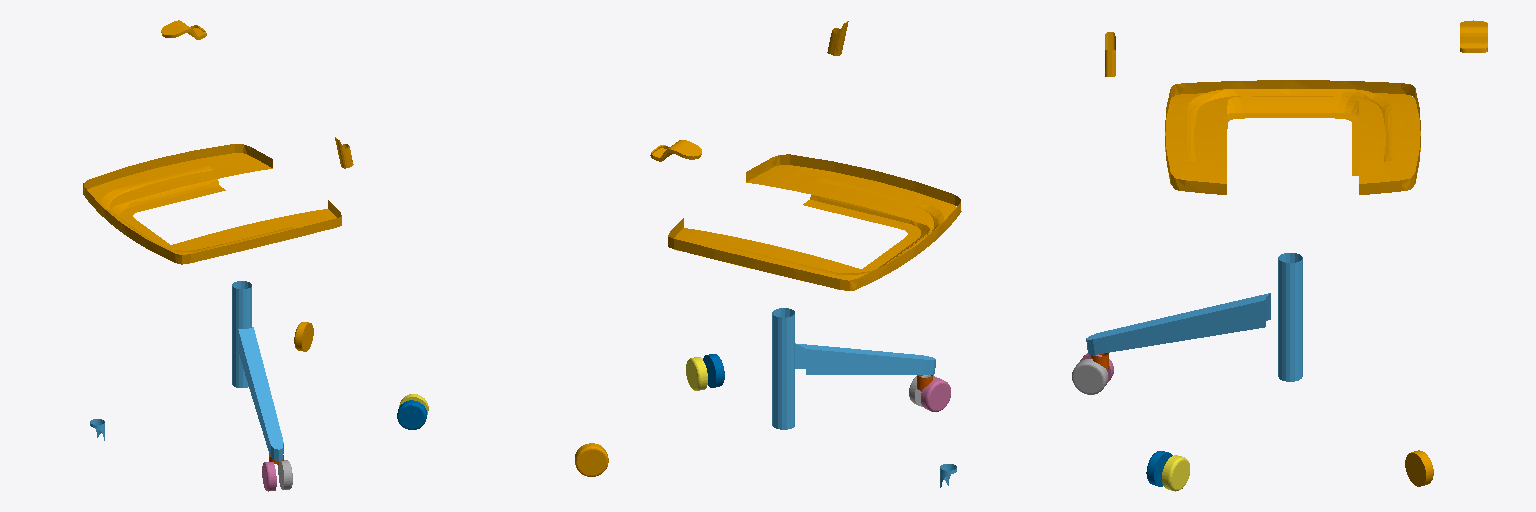
The robot description file, URDF, robot "partnet_6f36520144753550f91663a74ccd2338":
<?xml version="1.0" ?>
<robot name="partnet_6f36520144753550f91663a74ccd2338">
	<link name="base"/>
	<link name="link_0">
		<visual name="caster_stem-88">
			<origin xyz="-0.004824560353282527 0.6854306951624354 -0.6261094488673553"/>
			<geometry>
				<mesh filename="textured_objs/original-1.obj"/>
			</geometry>
		</visual>
		<collision>
			<origin xyz="-0.004824560353282527 0.6854306951624354 -0.6261094488673553"/>
			<geometry>
				<mesh filename="textured_objs/original-1.obj"/>
			</geometry>
		</collision>
	</link>
	<joint name="joint_0" type="continuous">
		<origin xyz="0.004824560353282527 -0.6854306951624354 0.6261094488673553"/>
		<axis xyz="0 1 0"/>
		<child link="link_0"/>
		<parent link="link_16"/>
	</joint>
	<link name="link_1">
		<visual name="wheel-89">
			<origin xyz="0 0.787426 -0.6367505"/>
			<geometry>
				<mesh filename="textured_objs/original-13.obj"/>
			</geometry>
		</visual>
		<collision>
			<origin xyz="0 0.787426 -0.6367505"/>
			<geometry>
				<mesh filename="textured_objs/original-13.obj"/>
			</geometry>
		</collision>
	</link>
	<joint name="joint_1" type="continuous">
		<origin xyz="-0.004824560353282527 -0.10199530483756458 0.010641051132644685"/>
		<axis xyz="1 0 0"/>
		<child link="link_1"/>
		<parent link="link_0"/>
	</joint>
	<link name="link_2">
		<visual name="wheel-90">
			<origin xyz="0 0.787426 -0.6367505"/>
			<geometry>
				<mesh filename="textured_objs/original-22.obj"/>
			</geometry>
		</visual>
		<collision>
			<origin xyz="0 0.787426 -0.6367505"/>
			<geometry>
				<mesh filename="textured_objs/original-22.obj"/>
			</geometry>
		</collision>
	</link>
	<joint name="joint_2" type="continuous">
		<origin xyz="-0.004824560353282527 -0.10199530483756458 0.010641051132644685"/>
		<axis xyz="1 0 0"/>
		<child link="link_2"/>
		<parent link="link_0"/>
	</joint>
	<link name="link_3">
		<visual name="caster_stem-85">
			<origin xyz="0.4752625738710319 0.6813977063051926 -0.2731863872516069"/>
			<geometry>
				<mesh filename="textured_objs/original-3.obj"/>
			</geometry>
		</visual>
		<collision>
			<origin xyz="0.4752625738710319 0.6813977063051926 -0.2731863872516069"/>
			<geometry>
				<mesh filename="textured_objs/original-3.obj"/>
			</geometry>
		</collision>
	</link>
	<joint name="joint_3" type="continuous">
		<origin xyz="-0.4752625738710319 -0.6813977063051926 0.2731863872516069"/>
		<axis xyz="0 1 0"/>
		<child link="link_3"/>
		<parent link="link_16"/>
	</joint>
	<link name="link_4">
		<visual name="wheel-86">
			<origin xyz="0.5200274031646904 0.7874214223528662 -0.17040334689669234"/>
			<geometry>
				<mesh filename="textured_objs/original-23.obj"/>
			</geometry>
		</visual>
		<collision>
			<origin xyz="0.5200274031646904 0.7874214223528662 -0.17040334689669234"/>
			<geometry>
				<mesh filename="textured_objs/original-23.obj"/>
			</geometry>
		</collision>
	</link>
	<joint name="joint_4" type="continuous">
		<origin xyz="-0.04476482929365855 -0.10602371604767358 -0.10278304035491453"/>
		<axis xyz="-0.31143727124422005 3.465755326456095e-05 -0.9502667124964487"/>
		<child link="link_4"/>
		<parent link="link_3"/>
	</joint>
	<link name="link_5">
		<visual name="wheel-87">
			<origin xyz="0.5200274031646904 0.7874214223528662 -0.17040334689669234"/>
			<geometry>
				<mesh filename="textured_objs/original-18.obj"/>
			</geometry>
		</visual>
		<collision>
			<origin xyz="0.5200274031646904 0.7874214223528662 -0.17040334689669234"/>
			<geometry>
				<mesh filename="textured_objs/original-18.obj"/>
			</geometry>
		</collision>
	</link>
	<joint name="joint_5" type="continuous">
		<origin xyz="-0.04476482929365855 -0.10602371604767358 -0.10278304035491453"/>
		<axis xyz="-0.31143727124422005 3.465755326456095e-05 -0.9502667124964487"/>
		<child link="link_5"/>
		<parent link="link_3"/>
	</joint>
	<link name="link_6">
		<visual name="caster_stem-82">
			<origin xyz="0.29202366712906264 0.6795459934029324 0.2836826633212231"/>
			<geometry>
				<mesh filename="textured_objs/original-10.obj"/>
			</geometry>
		</visual>
		<collision>
			<origin xyz="0.29202366712906264 0.6795459934029324 0.2836826633212231"/>
			<geometry>
				<mesh filename="textured_objs/original-10.obj"/>
			</geometry>
		</collision>
	</link>
	<joint name="joint_6" type="continuous">
		<origin xyz="-0.29202366712906264 -0.6795459934029324 -0.2836826633212231"/>
		<axis xyz="0 1 0"/>
		<child link="link_6"/>
		<parent link="link_16"/>
	</joint>
	<link name="link_7">
		<visual name="wheel-83">
			<origin xyz="0.24637015095313 0.7874259922691701 0.33729412690697513"/>
			<geometry>
				<mesh filename="textured_objs/original-2.obj"/>
			</geometry>
		</visual>
		<collision>
			<origin xyz="0.24637015095313 0.7874259922691701 0.33729412690697513"/>
			<geometry>
				<mesh filename="textured_objs/original-2.obj"/>
			</geometry>
		</collision>
	</link>
	<joint name="joint_7" type="continuous">
		<origin xyz="0.045653516175932635 -0.10787999886623767 -0.05361146358575203"/>
		<axis xyz="-0.8075151932136608 -5.378786135316403e-06 0.5898467705261876"/>
		<child link="link_7"/>
		<parent link="link_6"/>
	</joint>
	<link name="link_8">
		<visual name="wheel-84">
			<origin xyz="0.24637015095313 0.7874259922691701 0.33729412690697513"/>
			<geometry>
				<mesh filename="textured_objs/original-14.obj"/>
			</geometry>
		</visual>
		<collision>
			<origin xyz="0.24637015095313 0.7874259922691701 0.33729412690697513"/>
			<geometry>
				<mesh filename="textured_objs/original-14.obj"/>
			</geometry>
		</collision>
	</link>
	<joint name="joint_8" type="continuous">
		<origin xyz="0.045653516175932635 -0.10787999886623767 -0.05361146358575203"/>
		<axis xyz="-0.8075151932136608 -5.378786135316403e-06 0.5898467705261876"/>
		<child link="link_8"/>
		<parent link="link_6"/>
	</joint>
	<link name="link_9">
		<visual name="caster_stem-79">
			<origin xyz="-0.30236794036172887 0.8301428355032825 0.27784855936927083"/>
			<geometry>
				<mesh filename="textured_objs/original-15.obj"/>
			</geometry>
		</visual>
		<collision>
			<origin xyz="-0.30236794036172887 0.8301428355032825 0.27784855936927083"/>
			<geometry>
				<mesh filename="textured_objs/original-15.obj"/>
			</geometry>
		</collision>
	</link>
	<joint name="joint_9" type="continuous">
		<origin xyz="0.30236794036172887 -0.8301428355032825 -0.27784855936927083"/>
		<axis xyz="0 1 0"/>
		<child link="link_9"/>
		<parent link="link_16"/>
	</joint>
	<link name="link_10">
		<visual name="wheel-80">
			<origin xyz="-0.25018009075653685 0.7874265 0.34629613868353354"/>
			<geometry>
				<mesh filename="textured_objs/original-35.obj"/>
			</geometry>
		</visual>
		<collision>
			<origin xyz="-0.25018009075653685 0.7874265 0.34629613868353354"/>
			<geometry>
				<mesh filename="textured_objs/original-35.obj"/>
			</geometry>
		</collision>
	</link>
	<joint name="joint_10" type="continuous">
		<origin xyz="-0.052187849605192016 0.042716335503282465 -0.06844757931426271"/>
		<axis xyz="-0.8105932913436219 0 -0.5856095252202734"/>
		<child link="link_10"/>
		<parent link="link_9"/>
	</joint>
	<link name="link_11">
		<visual name="wheel-81">
			<origin xyz="-0.25018009075653685 0.7874265 0.34629613868353354"/>
			<geometry>
				<mesh filename="textured_objs/original-36.obj"/>
			</geometry>
		</visual>
		<collision>
			<origin xyz="-0.25018009075653685 0.7874265 0.34629613868353354"/>
			<geometry>
				<mesh filename="textured_objs/original-36.obj"/>
			</geometry>
		</collision>
	</link>
	<joint name="joint_11" type="continuous">
		<origin xyz="-0.052187849605192016 0.042716335503282465 -0.06844757931426271"/>
		<axis xyz="-0.8105932913436219 0 -0.5856095252202734"/>
		<child link="link_11"/>
		<parent link="link_9"/>
	</joint>
	<link name="link_12">
		<visual name="caster_stem-76">
			<origin xyz="-0.47971523710225916 0.685311767391215 -0.26765977873258134"/>
			<geometry>
				<mesh filename="textured_objs/original-11.obj"/>
			</geometry>
		</visual>
		<collision>
			<origin xyz="-0.47971523710225916 0.685311767391215 -0.26765977873258134"/>
			<geometry>
				<mesh filename="textured_objs/original-11.obj"/>
			</geometry>
		</collision>
	</link>
	<joint name="joint_12" type="continuous">
		<origin xyz="0.47971523710225916 -0.685311767391215 0.26765977873258134"/>
		<axis xyz="0 1 0"/>
		<child link="link_12"/>
		<parent link="link_16"/>
	</joint>
	<link name="link_13">
		<visual name="wheel-77">
			<origin xyz="-0.535542535061673 0.7874356648073184 -0.1725515112167239"/>
			<geometry>
				<mesh filename="textured_objs/original-33.obj"/>
			</geometry>
		</visual>
		<collision>
			<origin xyz="-0.535542535061673 0.7874356648073184 -0.1725515112167239"/>
			<geometry>
				<mesh filename="textured_objs/original-33.obj"/>
			</geometry>
		</collision>
	</link>
	<joint name="joint_13" type="continuous">
		<origin xyz="0.05582729795941388 -0.10212389741610339 -0.09510826751585744"/>
		<axis xyz="0.3065887364620658 -6.41029691319091e-05 -0.951842078585205"/>
		<child link="link_13"/>
		<parent link="link_12"/>
	</joint>
	<link name="link_14">
		<visual name="wheel-78">
			<origin xyz="-0.535542535061673 0.7874356648073184 -0.1725515112167239"/>
			<geometry>
				<mesh filename="textured_objs/original-34.obj"/>
			</geometry>
		</visual>
		<collision>
			<origin xyz="-0.535542535061673 0.7874356648073184 -0.1725515112167239"/>
			<geometry>
				<mesh filename="textured_objs/original-34.obj"/>
			</geometry>
		</collision>
	</link>
	<joint name="joint_14" type="continuous">
		<origin xyz="0.05582729795941388 -0.10212389741610339 -0.09510826751585744"/>
		<axis xyz="0.3065887364620658 -6.41029691319091e-05 -0.951842078585205"/>
		<child link="link_14"/>
		<parent link="link_12"/>
	</joint>
	<link name="link_15">
		<visual name="back_soft_surface-105">
			<origin xyz="-0.0069497679964117265 0 -0.118190120704646"/>
			<geometry>
				<mesh filename="textured_objs/original-19.obj"/>
			</geometry>
		</visual>
		<visual name="back_soft_surface-105">
			<origin xyz="-0.0069497679964117265 0 -0.118190120704646"/>
			<geometry>
				<mesh filename="textured_objs/original-4.obj"/>
			</geometry>
		</visual>
		<visual name="armrest_soft_surface-99">
			<origin xyz="-0.0069497679964117265 0 -0.118190120704646"/>
			<geometry>
				<mesh filename="textured_objs/original-26.obj"/>
			</geometry>
		</visual>
		<visual name="arm_vertical_bar-100">
			<origin xyz="-0.0069497679964117265 0 -0.118190120704646"/>
			<geometry>
				<mesh filename="textured_objs/new-4.obj"/>
			</geometry>
		</visual>
		<visual name="arm_horizontal_bar-101">
			<origin xyz="-0.0069497679964117265 0 -0.118190120704646"/>
			<geometry>
				<mesh filename="textured_objs/new-5.obj"/>
			</geometry>
		</visual>
		<visual name="other_leaf-103">
			<origin xyz="-0.0069497679964117265 0 -0.118190120704646"/>
			<geometry>
				<mesh filename="textured_objs/original-29.obj"/>
			</geometry>
		</visual>
		<visual name="other_leaf-103">
			<origin xyz="-0.0069497679964117265 0 -0.118190120704646"/>
			<geometry>
				<mesh filename="textured_objs/original-16.obj"/>
			</geometry>
		</visual>
		<visual name="armrest_soft_surface-94">
			<origin xyz="-0.0069497679964117265 0 -0.118190120704646"/>
			<geometry>
				<mesh filename="textured_objs/original-25.obj"/>
			</geometry>
		</visual>
		<visual name="arm_vertical_bar-95">
			<origin xyz="-0.0069497679964117265 0 -0.118190120704646"/>
			<geometry>
				<mesh filename="textured_objs/new-2.obj"/>
			</geometry>
		</visual>
		<visual name="arm_horizontal_bar-96">
			<origin xyz="-0.0069497679964117265 0 -0.118190120704646"/>
			<geometry>
				<mesh filename="textured_objs/new-3.obj"/>
			</geometry>
		</visual>
		<visual name="other_leaf-98">
			<origin xyz="-0.0069497679964117265 0 -0.118190120704646"/>
			<geometry>
				<mesh filename="textured_objs/original-8.obj"/>
			</geometry>
		</visual>
		<visual name="other_leaf-98">
			<origin xyz="-0.0069497679964117265 0 -0.118190120704646"/>
			<geometry>
				<mesh filename="textured_objs/original-28.obj"/>
			</geometry>
		</visual>
		<visual name="seat_soft_surface-93">
			<origin xyz="-0.0069497679964117265 0 -0.118190120704646"/>
			<geometry>
				<mesh filename="textured_objs/original-21.obj"/>
			</geometry>
		</visual>
		<visual name="seat_support-92">
			<origin xyz="-0.0069497679964117265 0 -0.118190120704646"/>
			<geometry>
				<mesh filename="textured_objs/original-7.obj"/>
			</geometry>
		</visual>
		<visual name="seat_support-92">
			<origin xyz="-0.0069497679964117265 0 -0.118190120704646"/>
			<geometry>
				<mesh filename="textured_objs/original-12.obj"/>
			</geometry>
		</visual>
		<visual name="central_support-61">
			<origin xyz="-0.0069497679964117265 0 -0.118190120704646"/>
			<geometry>
				<mesh filename="textured_objs/original-9.obj"/>
			</geometry>
		</visual>
		<visual name="seat_connector-65">
			<origin xyz="-0.0069497679964117265 0 -0.118190120704646"/>
			<geometry>
				<mesh filename="textured_objs/original-17.obj"/>
			</geometry>
		</visual>
		<collision>
			<origin xyz="-0.0069497679964117265 0 -0.118190120704646"/>
			<geometry>
				<mesh filename="textured_objs/original-19.obj"/>
			</geometry>
		</collision>
		<collision>
			<origin xyz="-0.0069497679964117265 0 -0.118190120704646"/>
			<geometry>
				<mesh filename="textured_objs/original-4.obj"/>
			</geometry>
		</collision>
		<collision>
			<origin xyz="-0.0069497679964117265 0 -0.118190120704646"/>
			<geometry>
				<mesh filename="textured_objs/original-26.obj"/>
			</geometry>
		</collision>
		<collision>
			<origin xyz="-0.0069497679964117265 0 -0.118190120704646"/>
			<geometry>
				<mesh filename="textured_objs/new-4.obj"/>
			</geometry>
		</collision>
		<collision>
			<origin xyz="-0.0069497679964117265 0 -0.118190120704646"/>
			<geometry>
				<mesh filename="textured_objs/new-5.obj"/>
			</geometry>
		</collision>
		<collision>
			<origin xyz="-0.0069497679964117265 0 -0.118190120704646"/>
			<geometry>
				<mesh filename="textured_objs/original-29.obj"/>
			</geometry>
		</collision>
		<collision>
			<origin xyz="-0.0069497679964117265 0 -0.118190120704646"/>
			<geometry>
				<mesh filename="textured_objs/original-16.obj"/>
			</geometry>
		</collision>
		<collision>
			<origin xyz="-0.0069497679964117265 0 -0.118190120704646"/>
			<geometry>
				<mesh filename="textured_objs/original-25.obj"/>
			</geometry>
		</collision>
		<collision>
			<origin xyz="-0.0069497679964117265 0 -0.118190120704646"/>
			<geometry>
				<mesh filename="textured_objs/new-2.obj"/>
			</geometry>
		</collision>
		<collision>
			<origin xyz="-0.0069497679964117265 0 -0.118190120704646"/>
			<geometry>
				<mesh filename="textured_objs/new-3.obj"/>
			</geometry>
		</collision>
		<collision>
			<origin xyz="-0.0069497679964117265 0 -0.118190120704646"/>
			<geometry>
				<mesh filename="textured_objs/original-8.obj"/>
			</geometry>
		</collision>
		<collision>
			<origin xyz="-0.0069497679964117265 0 -0.118190120704646"/>
			<geometry>
				<mesh filename="textured_objs/original-28.obj"/>
			</geometry>
		</collision>
		<collision>
			<origin xyz="-0.0069497679964117265 0 -0.118190120704646"/>
			<geometry>
				<mesh filename="textured_objs/original-21.obj"/>
			</geometry>
		</collision>
		<collision>
			<origin xyz="-0.0069497679964117265 0 -0.118190120704646"/>
			<geometry>
				<mesh filename="textured_objs/original-7.obj"/>
			</geometry>
		</collision>
		<collision>
			<origin xyz="-0.0069497679964117265 0 -0.118190120704646"/>
			<geometry>
				<mesh filename="textured_objs/original-12.obj"/>
			</geometry>
		</collision>
		<collision>
			<origin xyz="-0.0069497679964117265 0 -0.118190120704646"/>
			<geometry>
				<mesh filename="textured_objs/original-9.obj"/>
			</geometry>
		</collision>
		<collision>
			<origin xyz="-0.0069497679964117265 0 -0.118190120704646"/>
			<geometry>
				<mesh filename="textured_objs/original-17.obj"/>
			</geometry>
		</collision>
	</link>
	<joint name="joint_15" type="continuous">
		<origin xyz="0.0 0 0.0"/>
		<axis xyz="0 1 0"/>
		<child link="link_15"/>
		<parent link="link_15_helper"/>
	</joint>
	<link name="link_16">
		<visual name="central_support-62">
			<origin xyz="0 0 0"/>
			<geometry>
				<mesh filename="textured_objs/original-24.obj"/>
			</geometry>
		</visual>
		<visual name="central_support-63">
			<origin xyz="0 0 0"/>
			<geometry>
				<mesh filename="textured_objs/original-5.obj"/>
			</geometry>
		</visual>
		<visual name="leg-66">
			<origin xyz="0 0 0"/>
			<geometry>
				<mesh filename="textured_objs/original-20.obj"/>
			</geometry>
		</visual>
		<visual name="leg-67">
			<origin xyz="0 0 0"/>
			<geometry>
				<mesh filename="textured_objs/original-6.obj"/>
			</geometry>
		</visual>
		<visual name="leg-68">
			<origin xyz="0 0 0"/>
			<geometry>
				<mesh filename="textured_objs/original-30.obj"/>
			</geometry>
		</visual>
		<visual name="leg-69">
			<origin xyz="0 0 0"/>
			<geometry>
				<mesh filename="textured_objs/original-31.obj"/>
			</geometry>
		</visual>
		<visual name="leg-70">
			<origin xyz="0 0 0"/>
			<geometry>
				<mesh filename="textured_objs/original-32.obj"/>
			</geometry>
		</visual>
		<collision>
			<origin xyz="0 0 0"/>
			<geometry>
				<mesh filename="textured_objs/original-24.obj"/>
			</geometry>
		</collision>
		<collision>
			<origin xyz="0 0 0"/>
			<geometry>
				<mesh filename="textured_objs/original-5.obj"/>
			</geometry>
		</collision>
		<collision>
			<origin xyz="0 0 0"/>
			<geometry>
				<mesh filename="textured_objs/original-20.obj"/>
			</geometry>
		</collision>
		<collision>
			<origin xyz="0 0 0"/>
			<geometry>
				<mesh filename="textured_objs/original-6.obj"/>
			</geometry>
		</collision>
		<collision>
			<origin xyz="0 0 0"/>
			<geometry>
				<mesh filename="textured_objs/original-30.obj"/>
			</geometry>
		</collision>
		<collision>
			<origin xyz="0 0 0"/>
			<geometry>
				<mesh filename="textured_objs/original-31.obj"/>
			</geometry>
		</collision>
		<collision>
			<origin xyz="0 0 0"/>
			<geometry>
				<mesh filename="textured_objs/original-32.obj"/>
			</geometry>
		</collision>
	</link>
	<joint name="joint_16" type="fixed">
		<origin rpy="1.570796326794897 0 -1.570796326794897" xyz="0 0 0"/>
		<child link="link_16"/>
		<parent link="base"/>
	</joint>
	<link name="link_15_helper"/>
	<joint name="joint_17" type="prismatic">
		<origin xyz="0.0069497679964117265 0 0.118190120704646"/>
		<axis xyz="0 -1 0"/>
		<child link="link_15_helper"/>
		<parent link="link_16"/>
		<limit lower="0" upper="0.1"/>
	</joint>
</robot>

--- Facts derived from the render (not from the file) ---
The picture shows the robot from 3 angles, left to right: view 1: azimuth 30°, elevation 25°; view 2: azimuth 150°, elevation 25°; view 3: azimuth 270°, elevation 25°; orthographic projection.
Robot: partnet_6f36520144753550f91663a74ccd2338 — 19 links, 18 joints (16 continuous, 1 prismatic, 1 fixed); root link base; default pose: every joint at zero.
Visible links, largest first — view 1: link_15, link_16, link_11; view 2: link_15, link_16, link_7, link_13, link_10, link_11; view 3: link_15, link_16, link_14, link_7, link_10, link_11.
Link boxes in pixels (left/top/right/bottom): link_15: left=83, top=20, right=353, bottom=264; link_16: left=232, top=281, right=283, bottom=460; link_11: left=397, top=400, right=426, bottom=429; link_15: left=650, top=21, right=961, bottom=290; link_16: left=772, top=308, right=935, bottom=429; link_7: left=575, top=443, right=608, bottom=476; link_13: left=921, top=378, right=950, bottom=411; link_10: left=686, top=357, right=707, bottom=390; link_11: left=703, top=354, right=724, bottom=387; link_15: left=1105, top=20, right=1487, bottom=194; link_16: left=1086, top=253, right=1302, bottom=381; link_14: left=1072, top=359, right=1107, bottom=394; link_7: left=1405, top=450, right=1433, bottom=486; link_10: left=1162, top=455, right=1189, bottom=491; link_11: left=1146, top=451, right=1172, bottom=486.
Bounding box of the posed robot: 0.9983 × 1.04 × 1.1 m (x, y, z).
13 mesh visuals loaded from 39 distinct referenced files (13 OBJ); not drawn: 26 (reference not matched to a file when rendering).